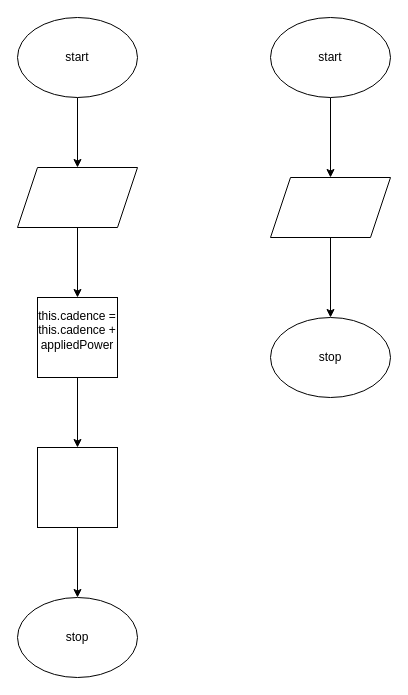
This 408x695 diagram has some shape labels left out. Each missing label, with the centre of its shape:
get app pow: pixel 77 197
print dig ding: pixel 330 207
super.setSpeed (this.cadence * 2): pixel 77 487
